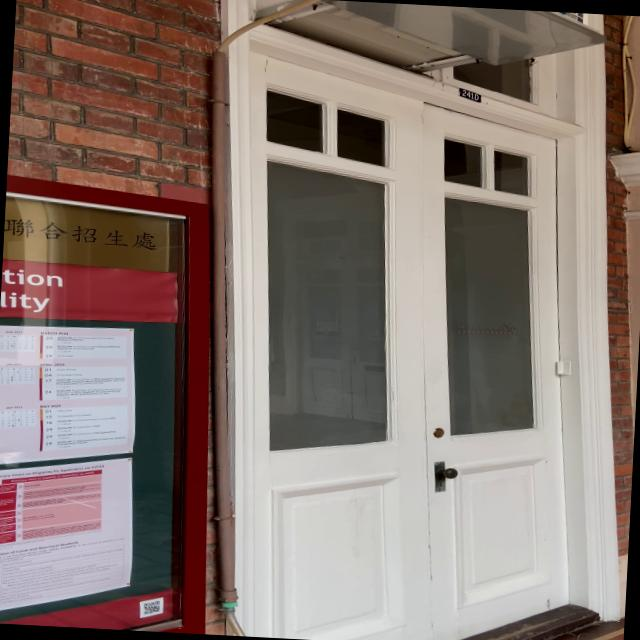room241d: (456, 86, 484, 105)
